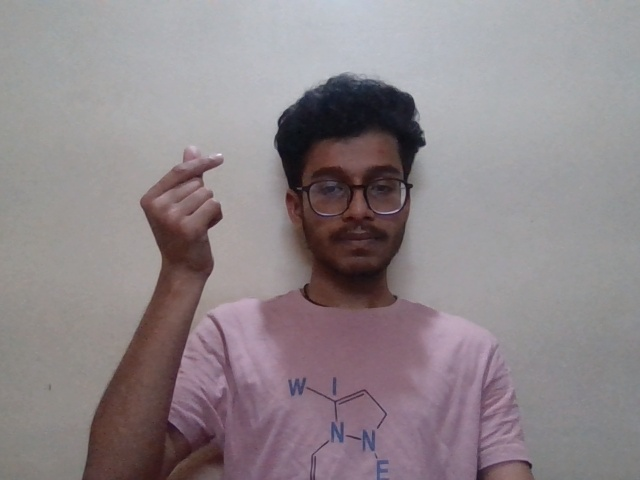J: (134, 141, 257, 275)
